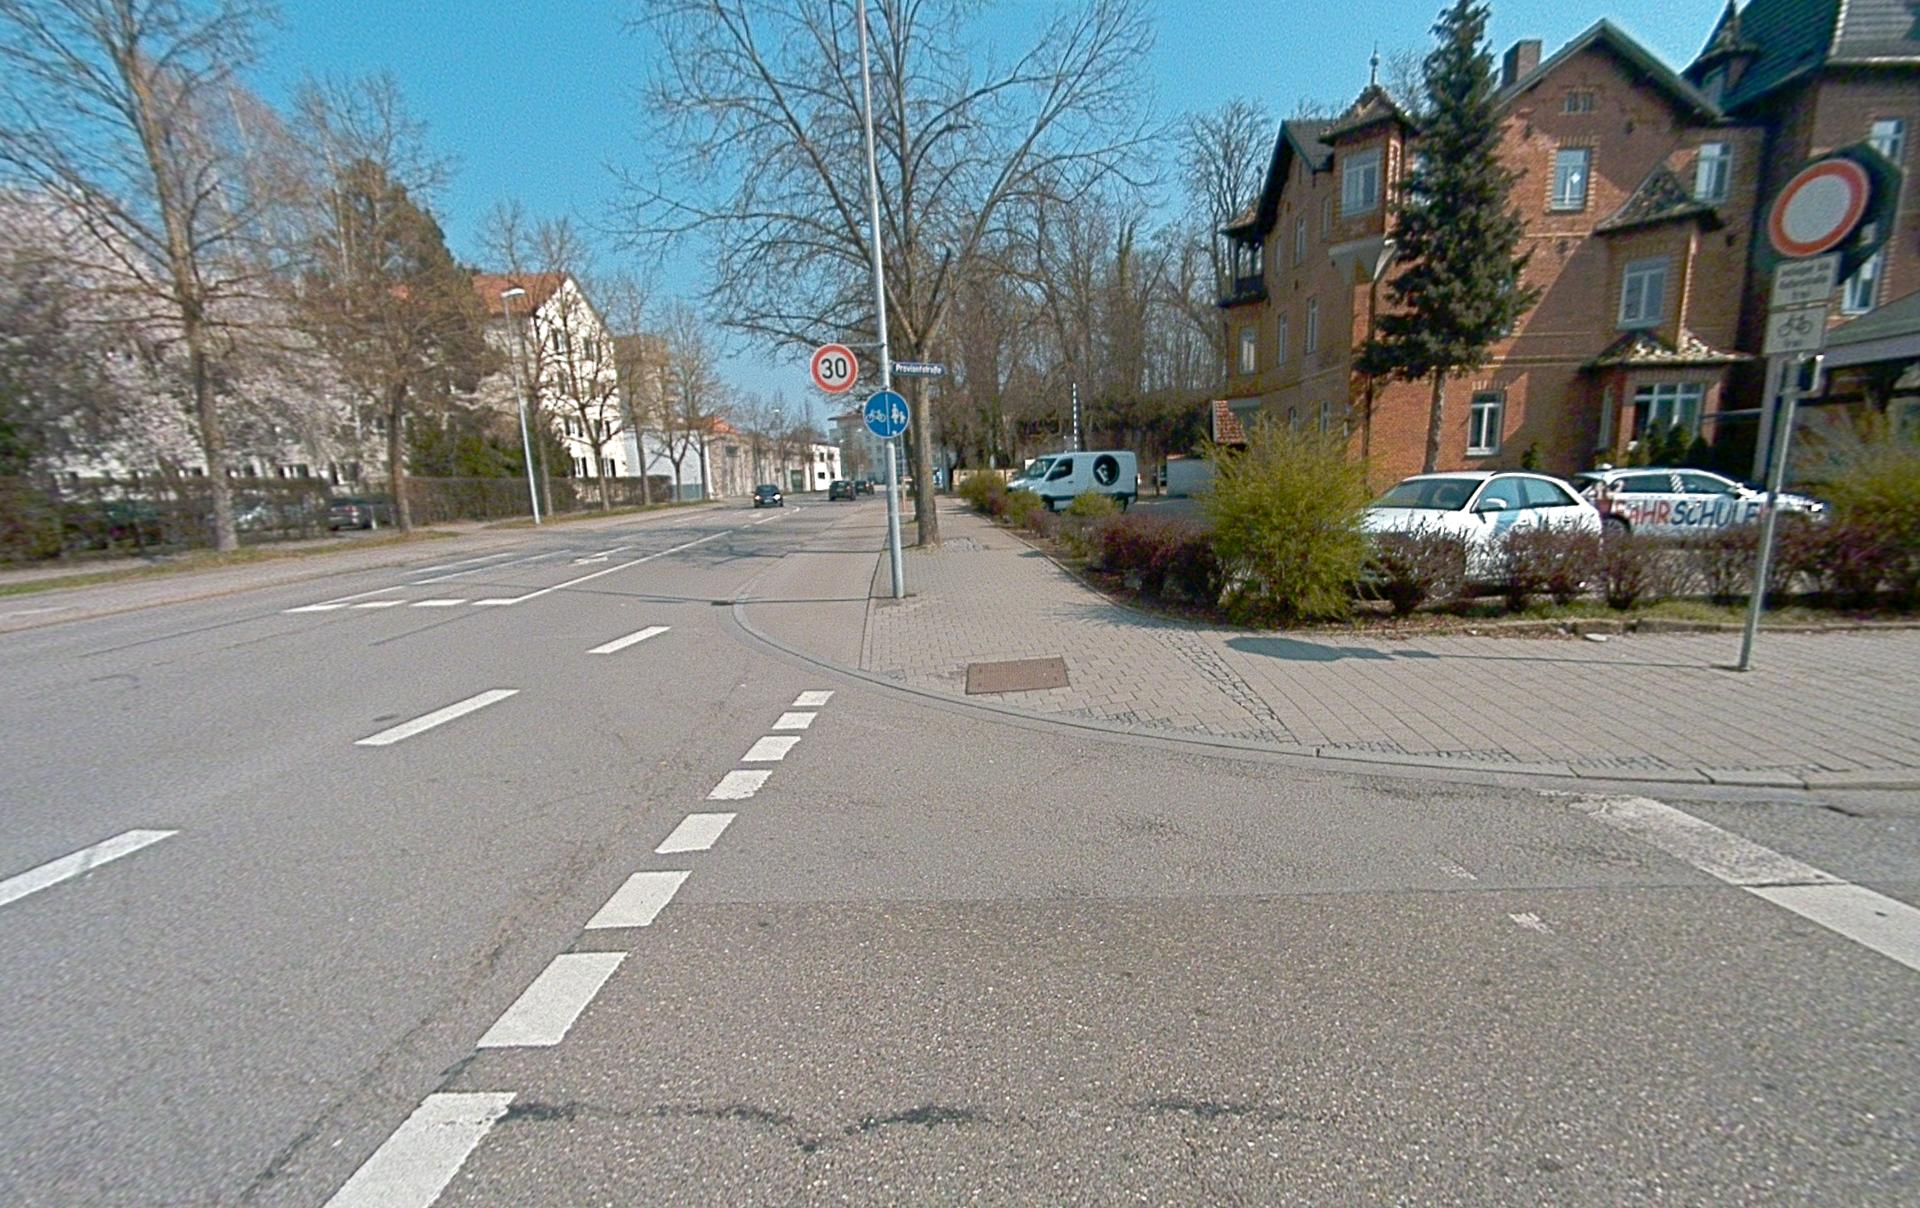car: (1340, 469, 1611, 601), (1572, 466, 1830, 540), (327, 500, 376, 532), (753, 484, 783, 508), (829, 480, 854, 501), (854, 479, 874, 494)
traffic sign: (810, 344, 858, 394), (863, 390, 911, 438), (892, 360, 945, 377)
